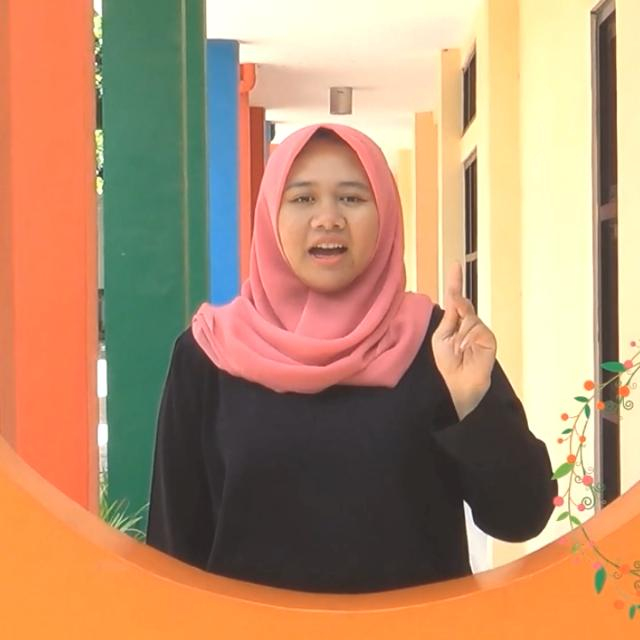K: (421, 258, 502, 406)
